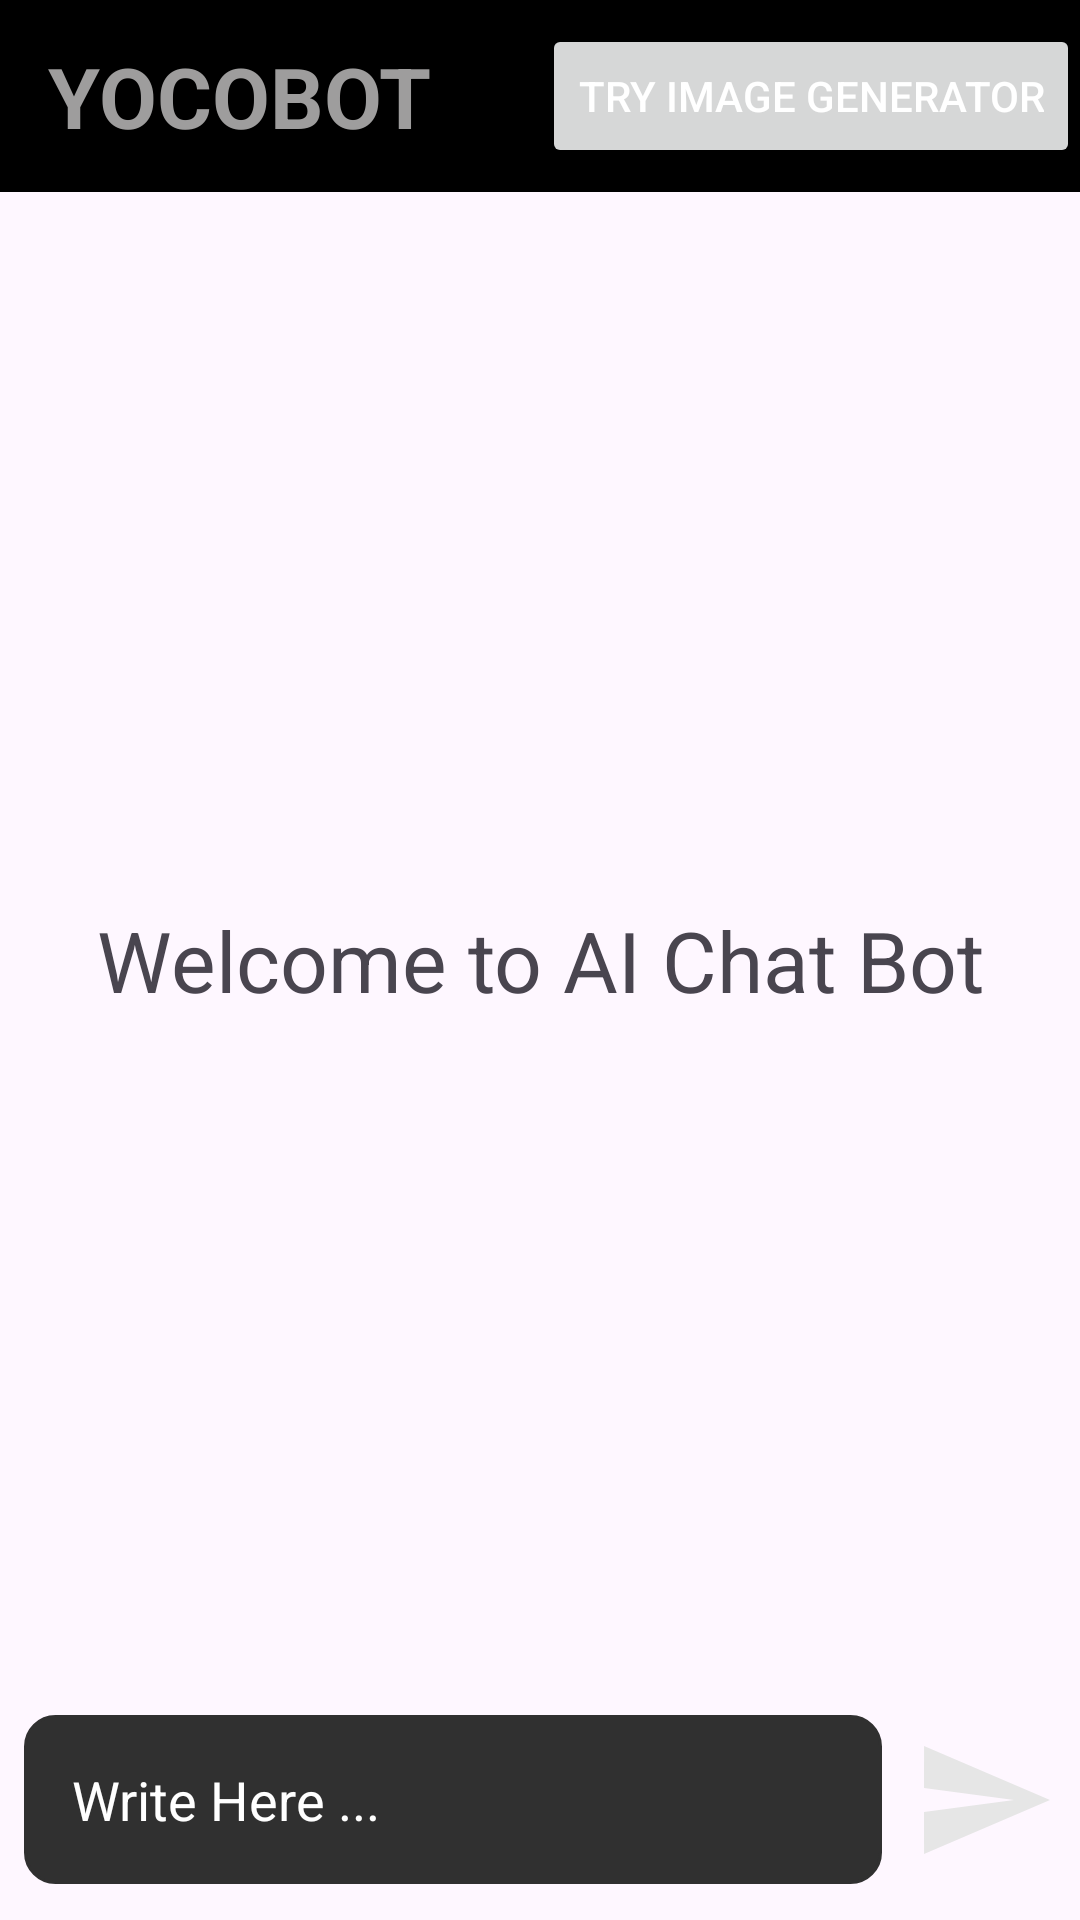

Where to tap for icons on this 1080px x 1920px app screen, as [x,y]:
send: [986,1800]
